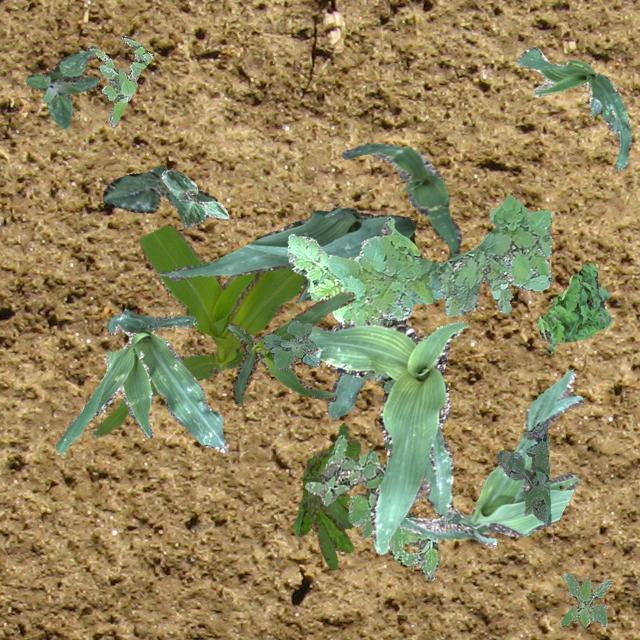crop: (158, 206, 414, 418), (88, 224, 304, 438), (306, 318, 468, 552), (397, 368, 582, 546), (54, 307, 228, 453), (226, 290, 354, 404), (516, 46, 630, 170), (340, 142, 460, 258), (102, 165, 216, 212), (160, 168, 228, 226), (161, 278, 173, 296)
weed: (286, 194, 552, 324), (304, 434, 438, 580), (292, 422, 359, 568), (536, 262, 612, 354), (88, 35, 152, 126), (24, 50, 98, 128), (496, 420, 550, 526), (560, 570, 610, 626), (262, 320, 320, 368)
